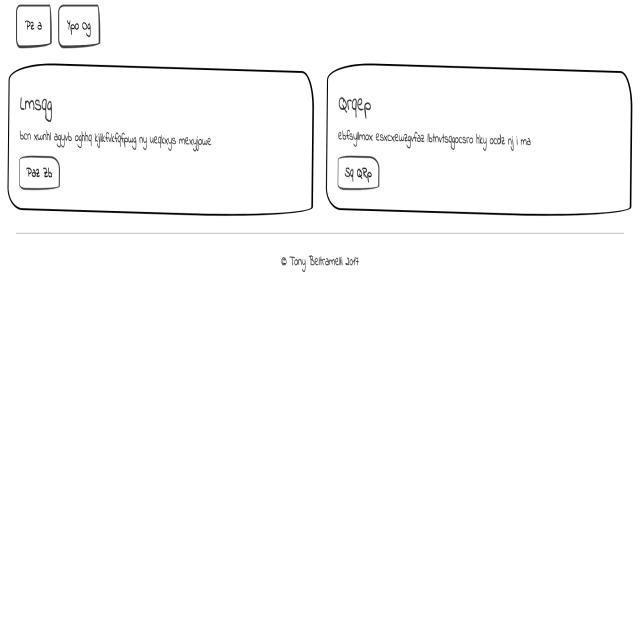Button: (20, 150, 63, 190), (336, 161, 382, 192)
Card: (329, 59, 635, 221), (3, 65, 320, 219)
Footer: (0, 227, 624, 640)
Heading 6: (15, 92, 69, 116), (337, 90, 380, 115)
Navigation Bar: (13, 8, 110, 51)
Paragraph: (334, 124, 546, 157), (16, 126, 235, 148)
